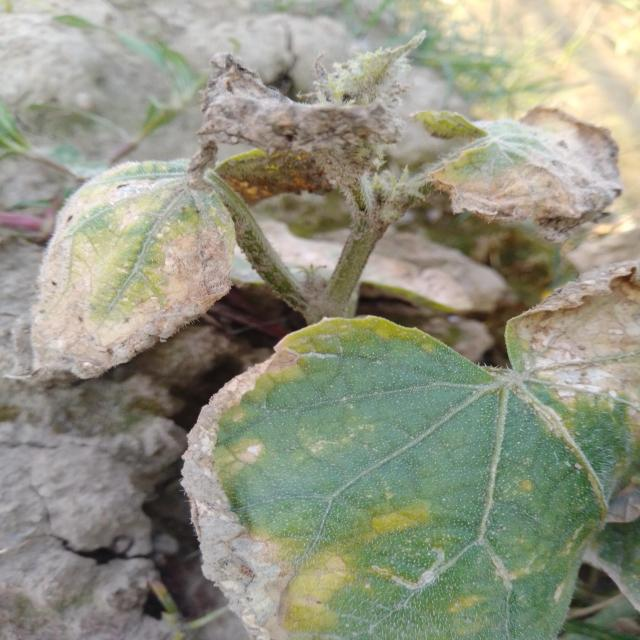cucumber_bacterial: (178, 260, 640, 640), (10, 130, 234, 391), (207, 15, 436, 185), (390, 92, 623, 252)
